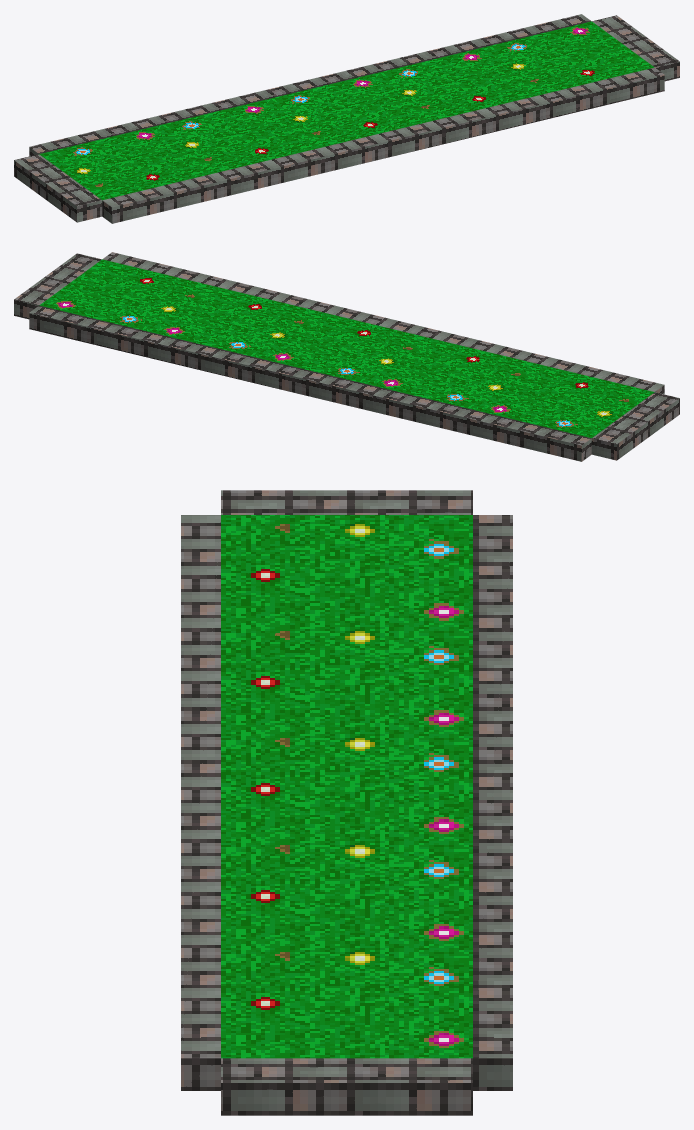
File: BGN_SIDEWALK GRASS CURB.fbx
3 renders of one model, top to bottom at view 1: azimuth 30°, elevation 25°; view 2: azimuth 150°, elevation 25°; view 3: azimuth 270°, elevation 25°, orthographic. The views are drawn at different scales.
Parts seen in each view (by area): view 1: BGN_SIDEWALK GRASS CURB; view 2: BGN_SIDEWALK GRASS CURB; view 3: BGN_SIDEWALK GRASS CURB.
Part boxes in pixels (box(x1,y1,x2,y2)): BGN_SIDEWALK GRASS CURB: box(14, 14, 679, 223); BGN_SIDEWALK GRASS CURB: box(14, 252, 679, 461); BGN_SIDEWALK GRASS CURB: box(181, 490, 512, 1115).
Size of the model in its own units: 1123 by 33.06 by 268.
Materials: 2 (2 with a texture image).
